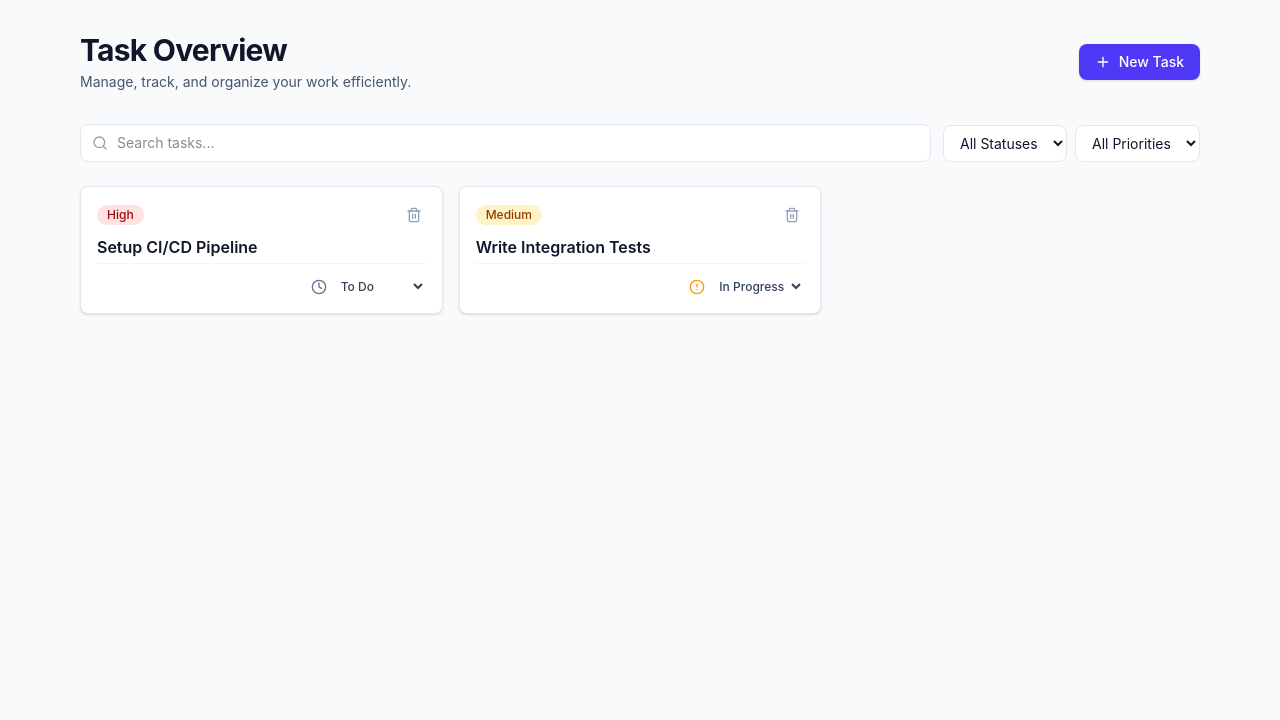
Test: <TaskPage /> › opens TaskForm modal when New Task button is clicked
The width and height of the screenshot is (1280, 720).
expect the text "Create New Task" is not shown: met
What coordinates should you click on to do the following:
click the button "New Task"
I would click on:
 (1139, 62)
Its box is [1079, 44, 1200, 80].
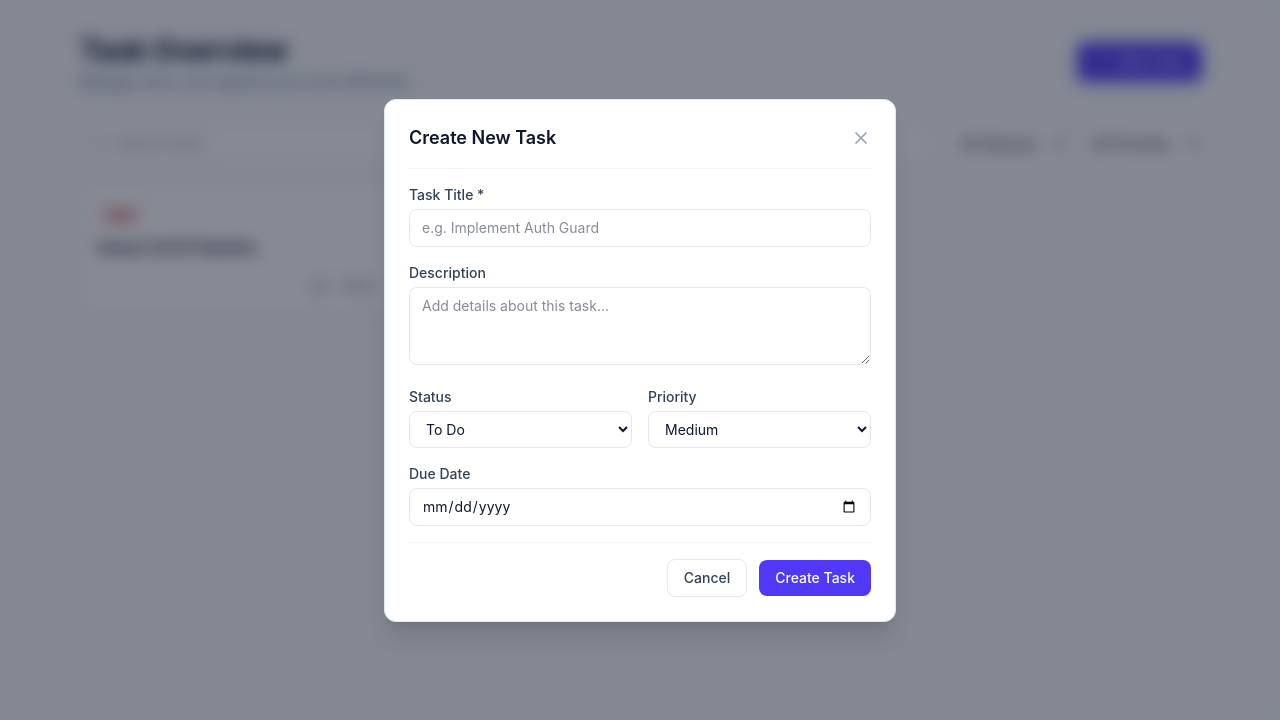
expect the heading "Create New Task" is shown: met, box [409, 124, 556, 152]
